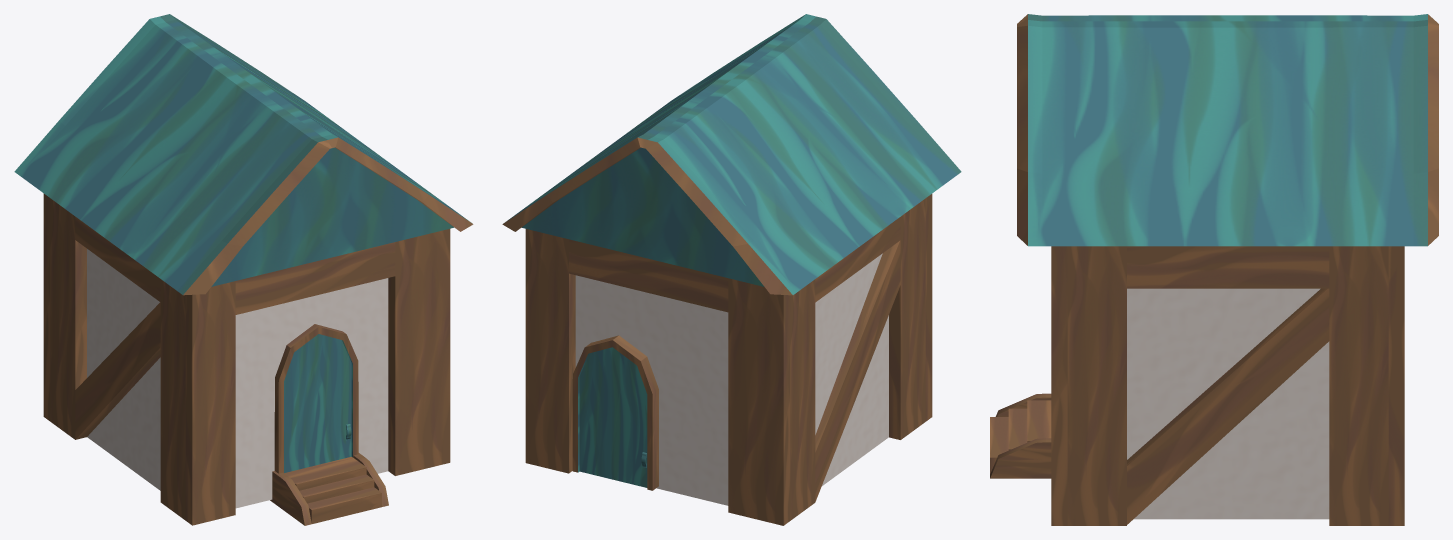
The model's file is house_sm_UV.FBX.
3 views of the same model, side by side, from view 1: azimuth 30°, elevation 25°; view 2: azimuth 150°, elevation 25°; view 3: azimuth 270°, elevation 25° (orthographic). The views are drawn at different scales.
Visible parts, largest first — view 1: HouseBlock1, Roof1, Door, Steps; view 2: HouseBlock1, Roof1, Door006; view 3: HouseBlock1, Roof1, Steps.
Boxes of the visible parts, x1,y1,x2,y2 form: HouseBlock1: (43,193,450,525); Roof1: (14,14,473,295); Door: (274,324,358,473); Steps: (270,453,388,525); HouseBlock1: (525,194,932,525); Roof1: (502,14,961,295); Door006: (572,335,658,490); HouseBlock1: (1051,246,1404,525); Roof1: (1017,14,1438,246); Steps: (990,393,1051,478).
Size of the model in its own units: 457 by 548 by 515.
